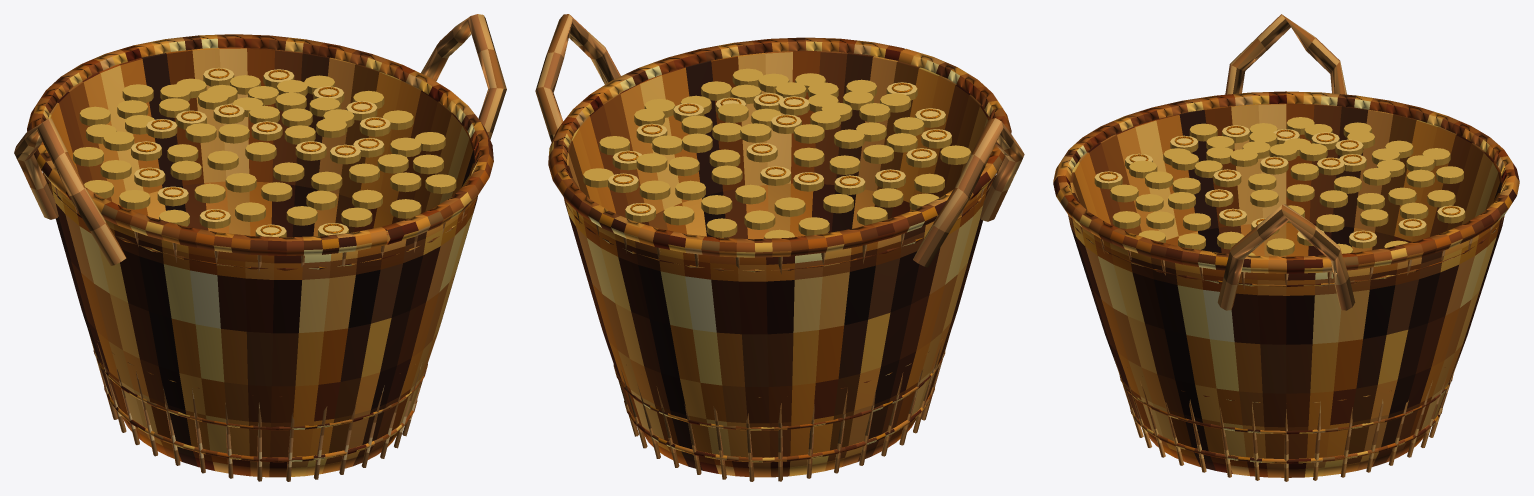
Rendered from gold-basket.glb.
The picture shows the model from 3 angles, left to right: view 1: azimuth 30°, elevation 25°; view 2: azimuth 150°, elevation 25°; view 3: azimuth 270°, elevation 25°; orthographic projection. The views are drawn at different scales.
Visible parts, largest first — view 1: gold-basket; view 2: gold-basket; view 3: gold-basket.
Part boxes in pixels (bbox=[...]): gold-basket: bbox=[14, 14, 506, 481]; gold-basket: bbox=[535, 14, 1024, 481]; gold-basket: bbox=[1053, 14, 1519, 481].
Size of the model in its own units: 0.9126 by 0.682 by 0.9092.
